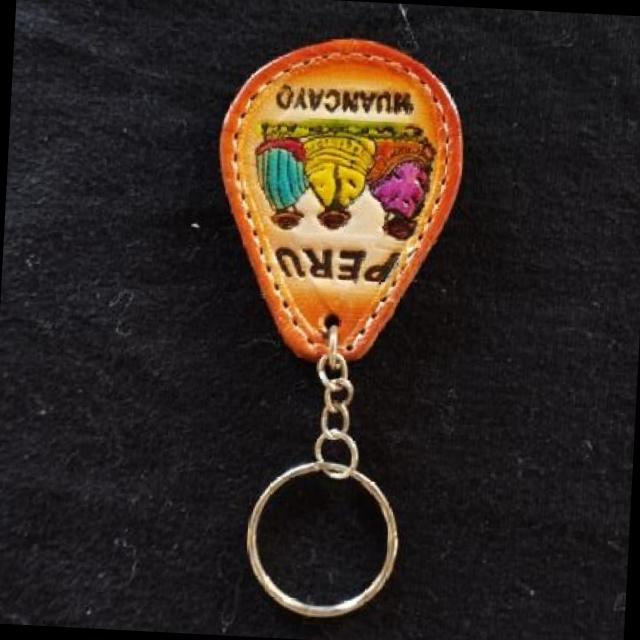Llavero: (207, 32, 470, 372)
